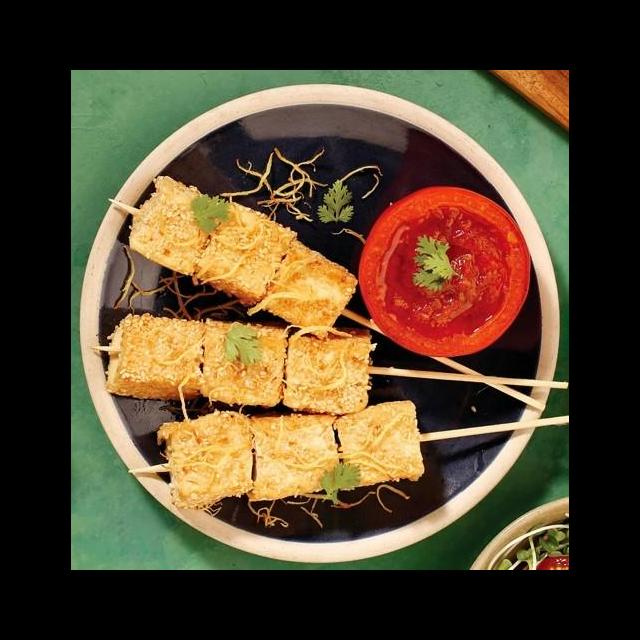dau hu: (186, 198, 301, 310), (243, 236, 362, 341), (153, 405, 256, 515), (125, 172, 227, 278), (240, 410, 345, 506), (276, 327, 380, 419), (103, 311, 208, 402), (197, 314, 292, 410), (331, 394, 428, 487)
